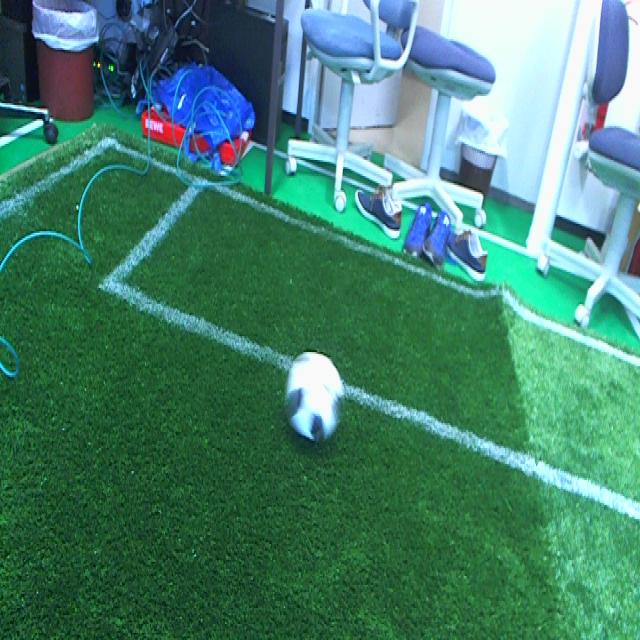ball: (284, 350, 346, 446)
goalpost: (521, 3, 602, 268)
